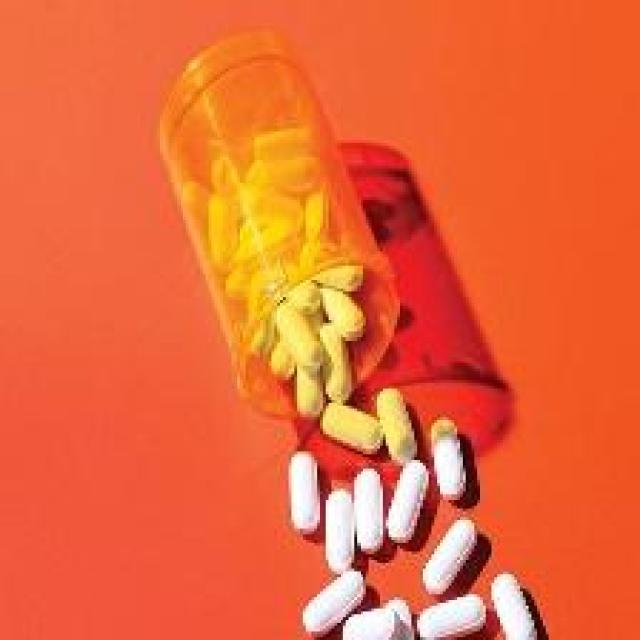Medicine: (130, 10, 564, 640)
